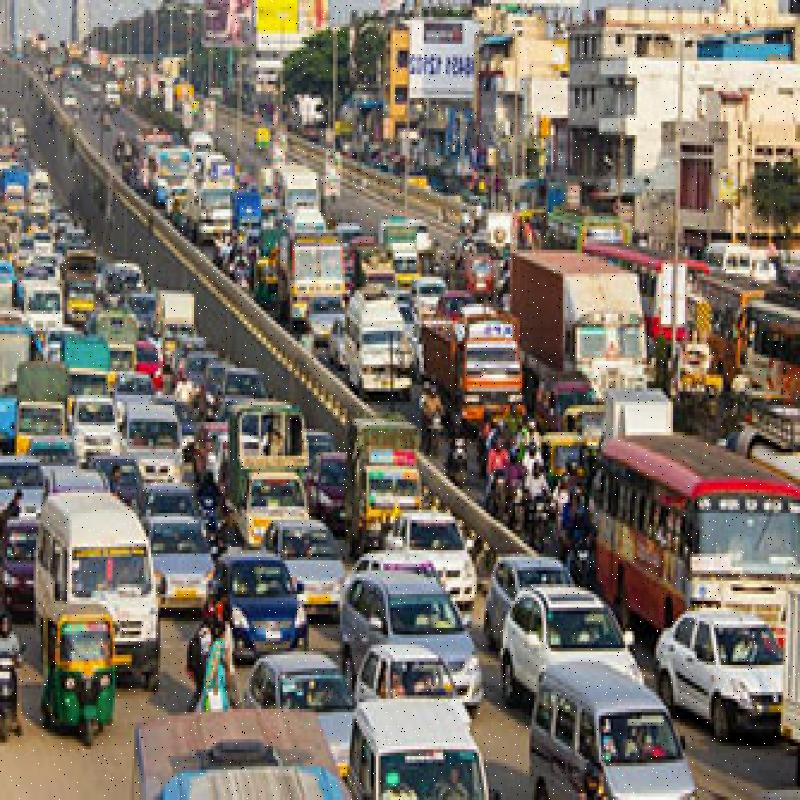auto: (33, 588, 127, 762)
bus: (582, 412, 800, 668)
car: (516, 645, 700, 800), (335, 549, 484, 699), (342, 559, 481, 711), (342, 665, 498, 800), (203, 531, 316, 659)
